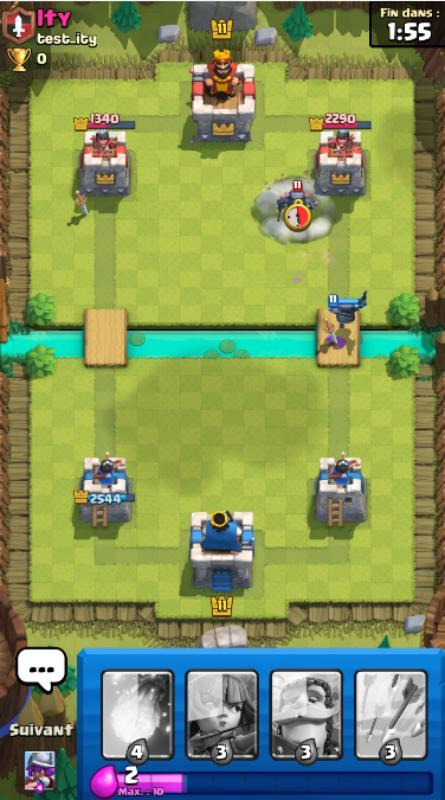mini_PEKKA: (275, 180, 319, 222), (327, 290, 369, 331)
